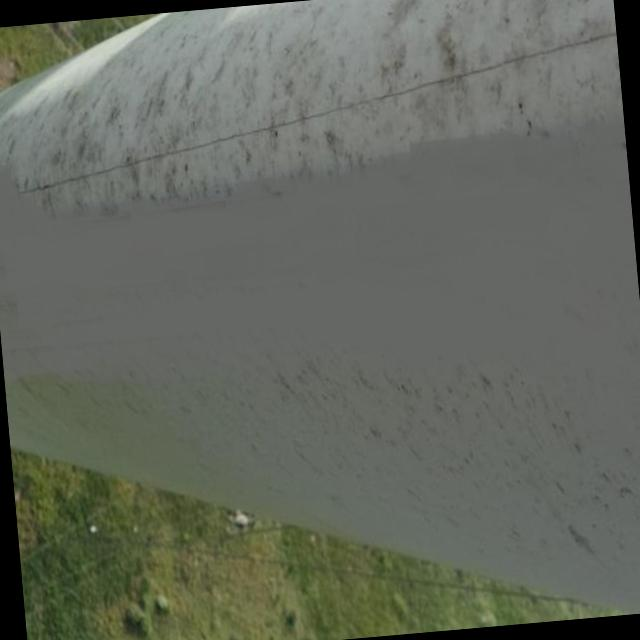crack: (11, 21, 626, 194)
